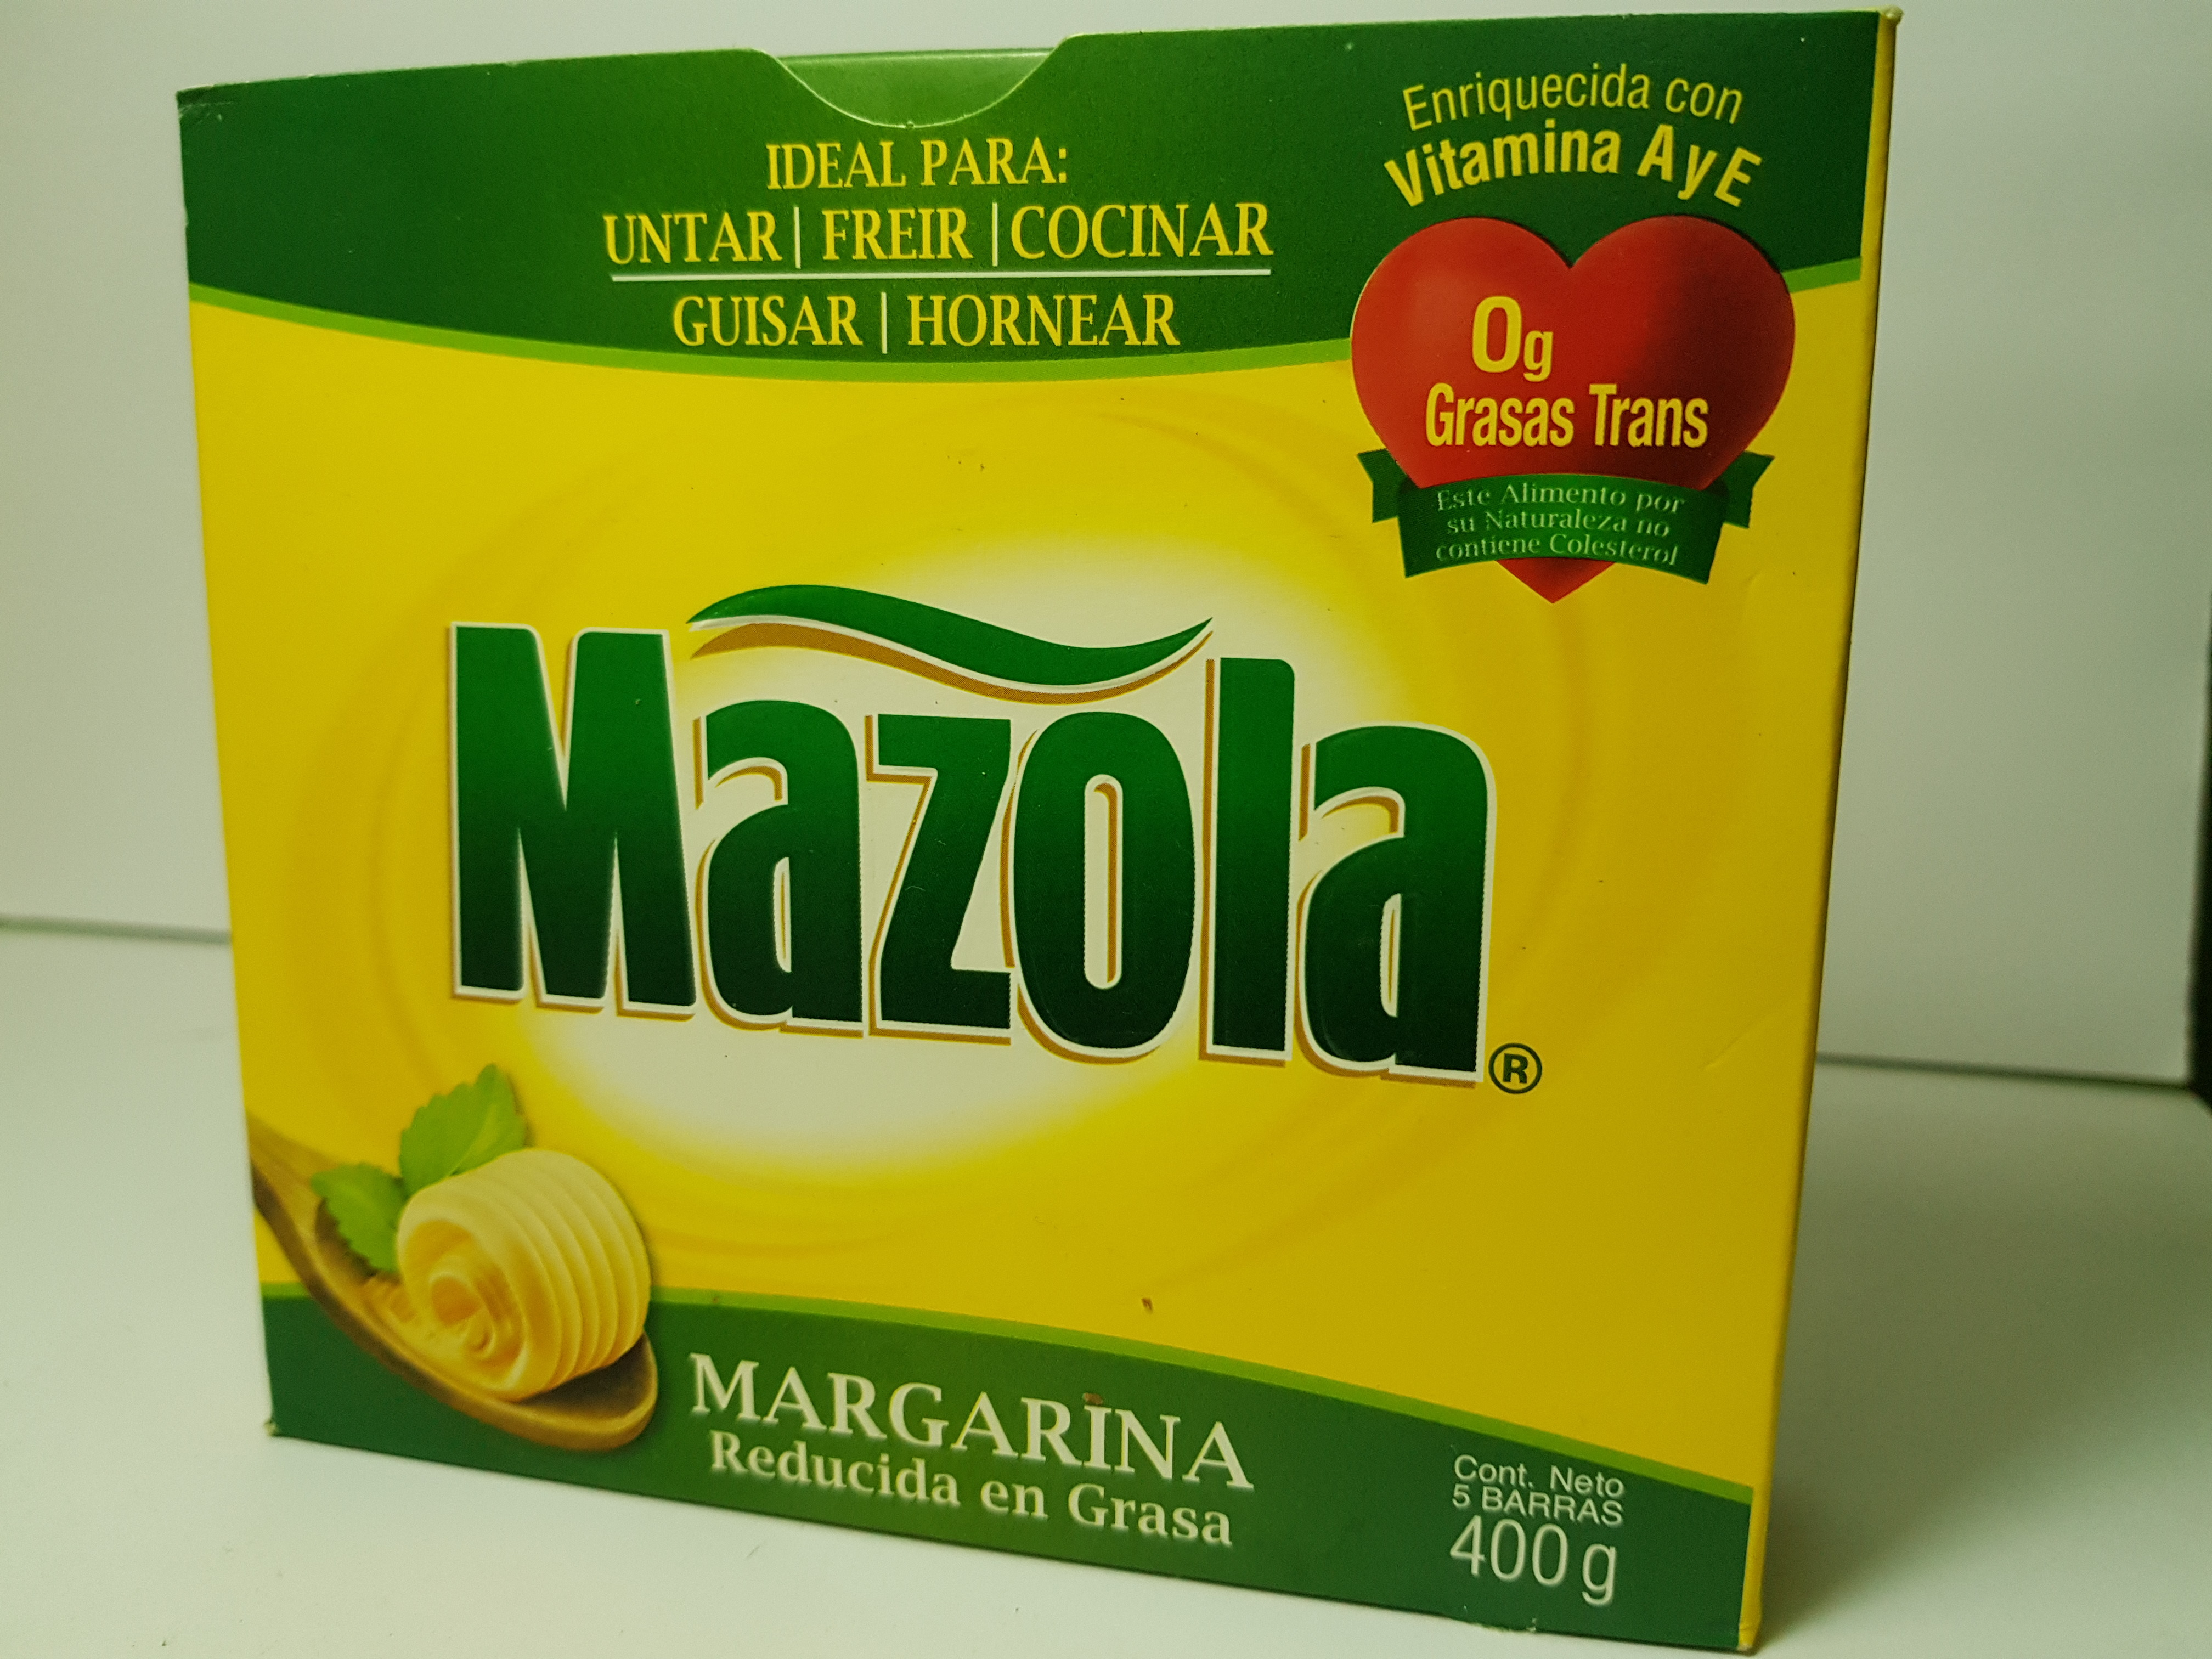mazola: (164, 5, 1928, 1659)
